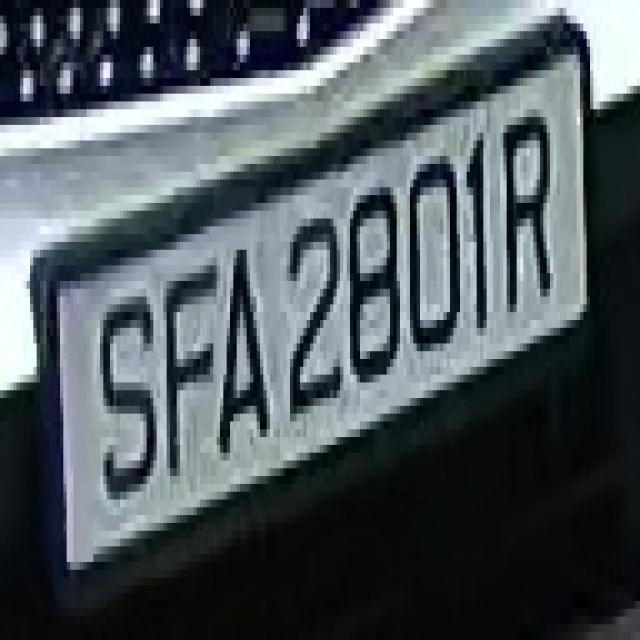0: (400, 133, 463, 367)
1: (463, 78, 500, 375)
2: (284, 203, 344, 445)
8: (343, 156, 407, 414)
A: (210, 203, 273, 492)
F: (157, 218, 220, 530)
R: (500, 102, 557, 336)
S: (97, 234, 170, 531)
